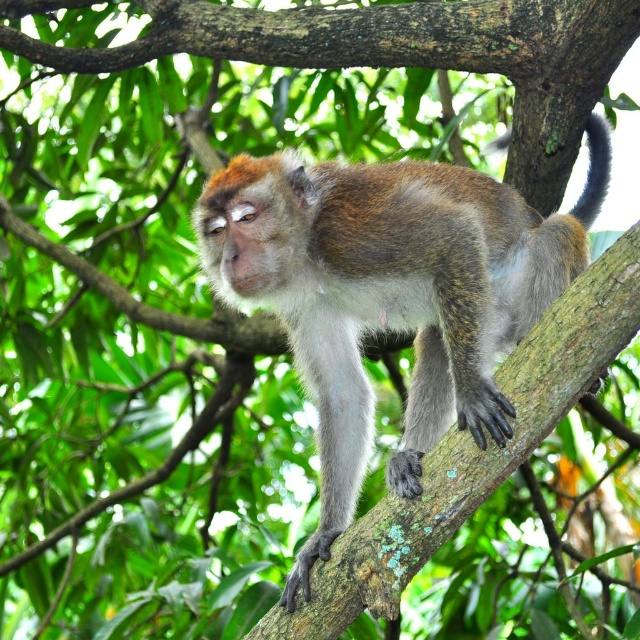Monkey: (190, 112, 612, 612)
